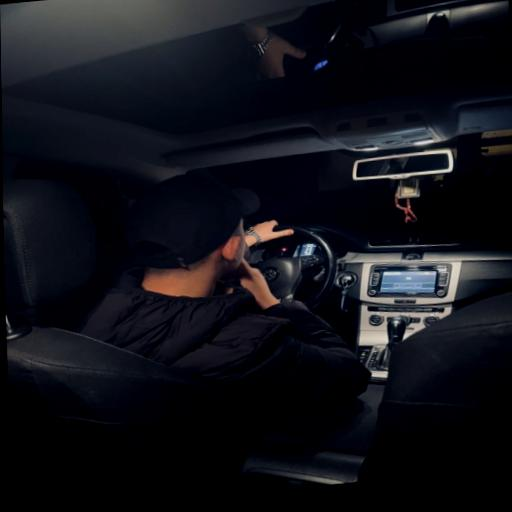Hands-on-the-Wheel: (245, 203, 323, 263)
